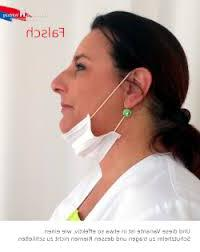mask_weared_incorrect: (47, 46, 104, 165)
